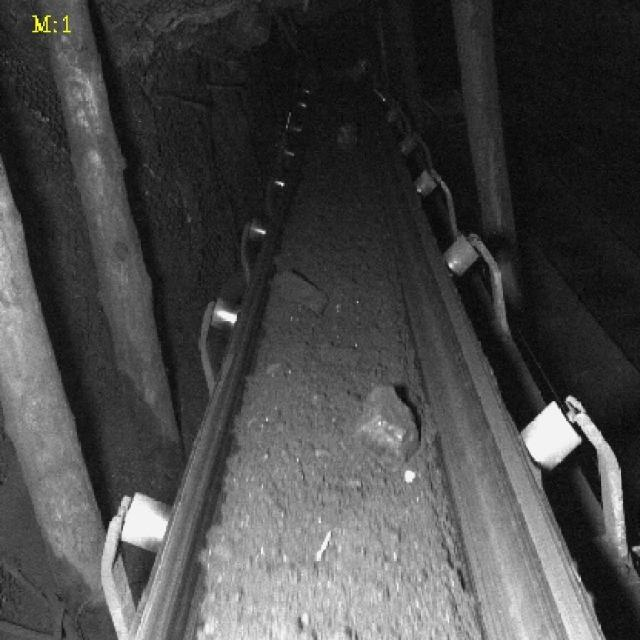large_sized_coal: (360, 382, 420, 458), (269, 271, 337, 318)
